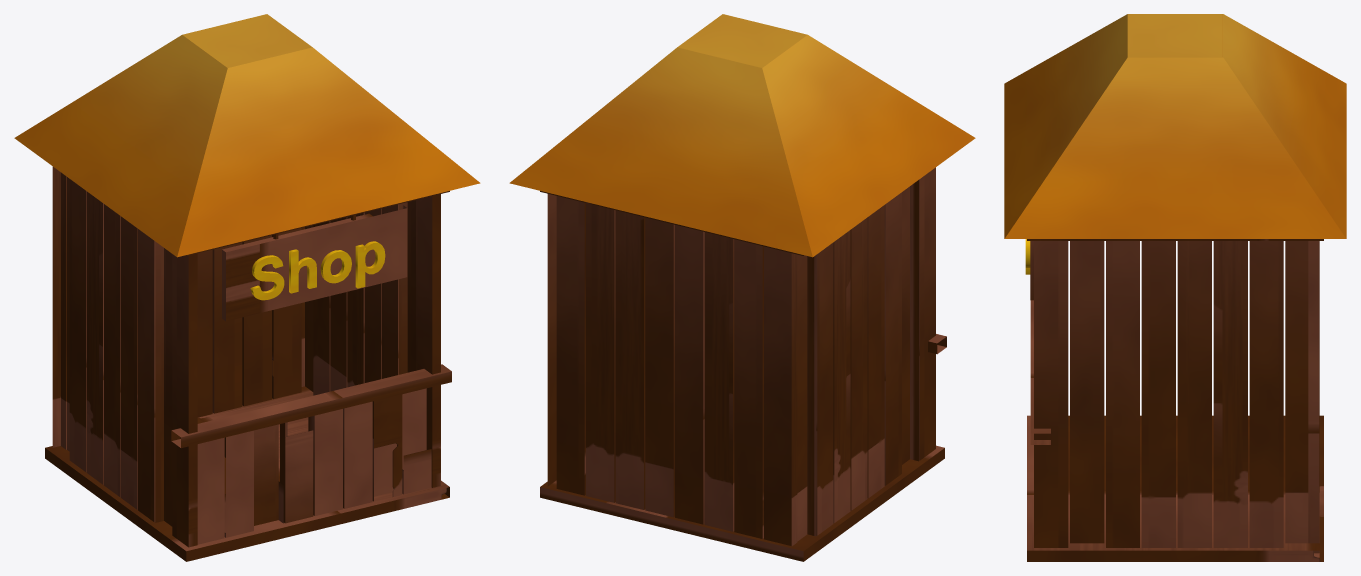
Rendered from Shop.fbx.
The picture shows the model from 3 angles, left to right: view 1: azimuth 30°, elevation 25°; view 2: azimuth 150°, elevation 25°; view 3: azimuth 270°, elevation 25°; orthographic projection. The views are drawn at different scales.
Visible parts, largest first — view 1: Cube.009, Cube.005, Cube.003, Cube.004, Cube.010, Cube.006, Cube.007, Text; view 2: Cube.004, Cube.009, Cube.005, Cube.006; view 3: Cube.005, Cube.009, Cube.006, Cube.004, Cube.007, Cube.008.
Part boxes in pixels (x1,y1,x2,y2): Cube.009: (14, 14, 480, 257); Cube.005: (52, 166, 440, 547); Cube.003: (197, 388, 431, 544); Cube.004: (61, 172, 301, 449); Cube.010: (222, 205, 407, 321); Cube.006: (45, 386, 449, 561); Cube.007: (171, 364, 451, 448); Text: (250, 241, 385, 300); Cube.004: (556, 196, 797, 545); Cube.009: (509, 14, 975, 257); Cube.005: (547, 167, 935, 545); Cube.006: (540, 445, 944, 561); Cube.005: (1034, 241, 1319, 557); Cube.009: (1004, 14, 1346, 238); Cube.006: (1027, 415, 1323, 561); Cube.004: (1308, 241, 1319, 553); Cube.007: (1030, 300, 1050, 444); Cube.008: (1027, 239, 1323, 240).
Bounding box in the file's own units: 451 × 620 × 419.
Materials: 3 (3 with a texture image).
